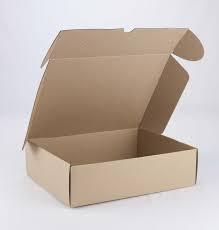plastic: (23, 28, 203, 206)
